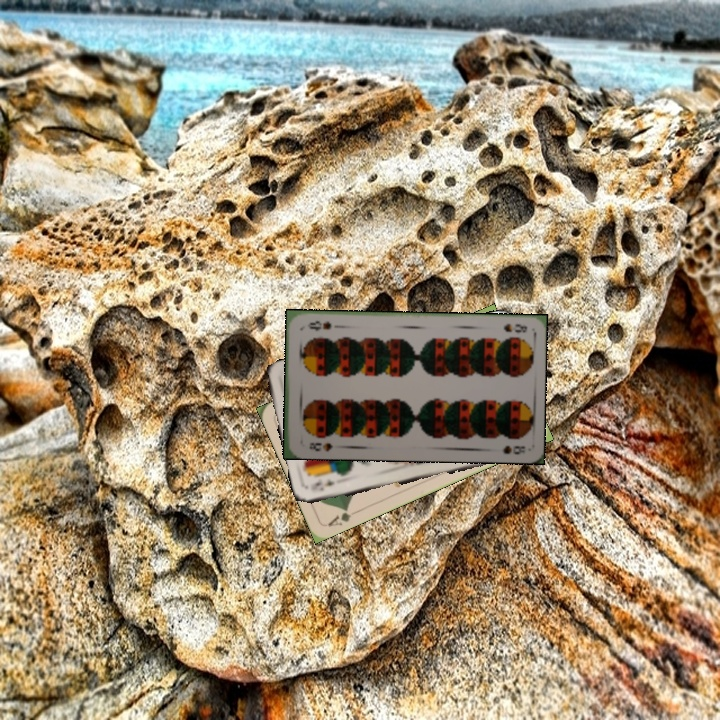EK: (307, 476, 337, 494)
GA: (324, 503, 362, 529)
S8: (305, 438, 335, 454), (500, 319, 529, 335)
